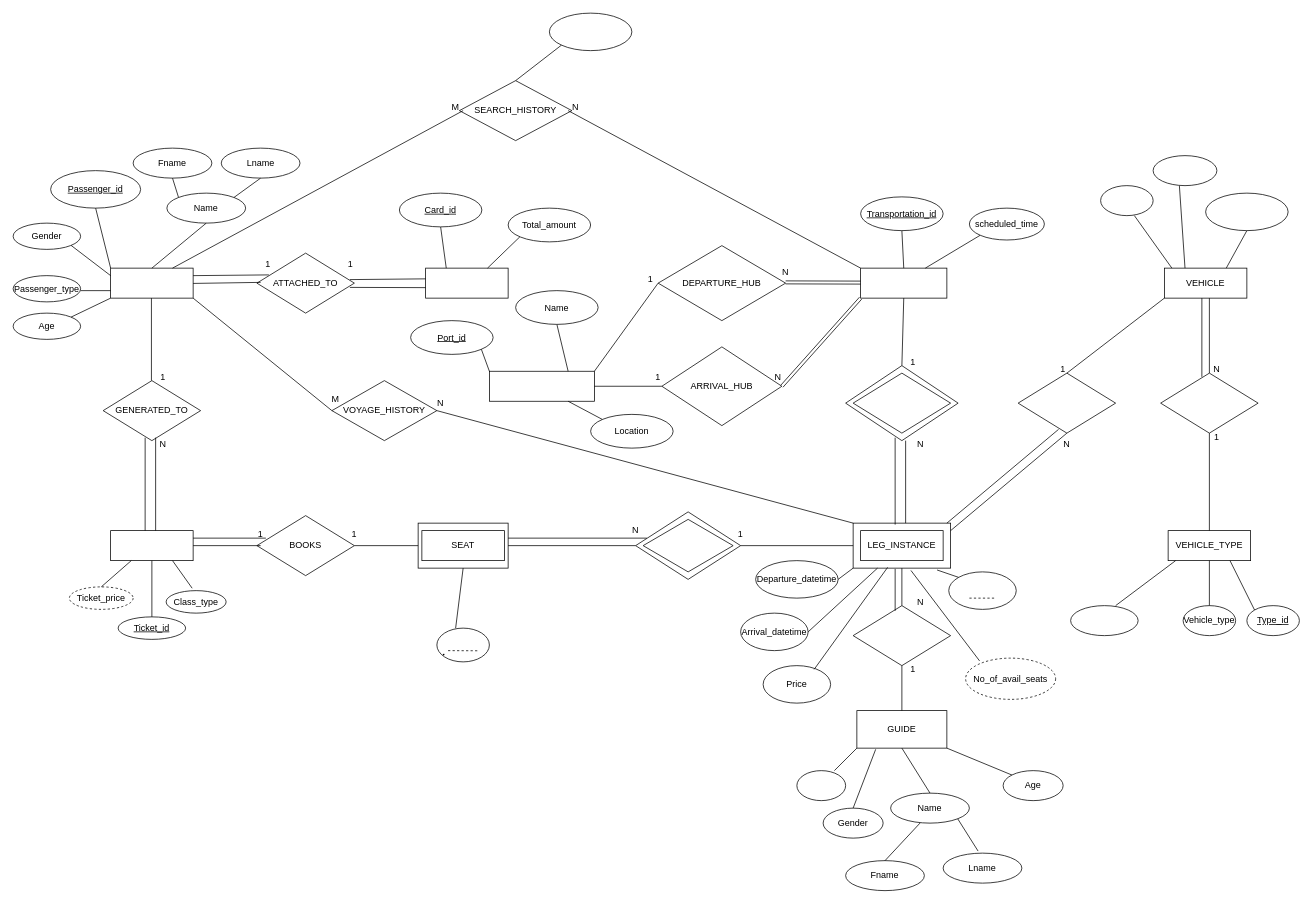
Image size: 1313x904. Some labels were removed from this diagram. Each missing label, with the centre of its shape:
"ASSIGNED_TO" goes at point 1066,402.
"Guide_id" goes at point 821,785.
"GUIDES_IN" goes at point 901,635.
"INSTANCES" goes at point 901,402.
"Leg_id" goes at point 982,590.
"PASSENGER" goes at point 151,282.
"PAYMENT_CARD" goes at point 466,282.
"RESERVED_TO" goes at point 687,545.
"searched_time" goes at point 590,31.
"Seat_capacity" goes at point 1104,620.
"Seat_no" goes at point 462,644.
"TICKET" goes at point 151,545.
"total_no_of_seats" goes at point 1246,211.
"TRANSPORTATION" goes at point 903,282.
"TRANSPORTATION_HUB" goes at point 541,385.
"TYPE" goes at point 1209,402.
"Vehicle_ID" goes at point 1126,200.
"Vehicle_name" goes at point 1184,170.
